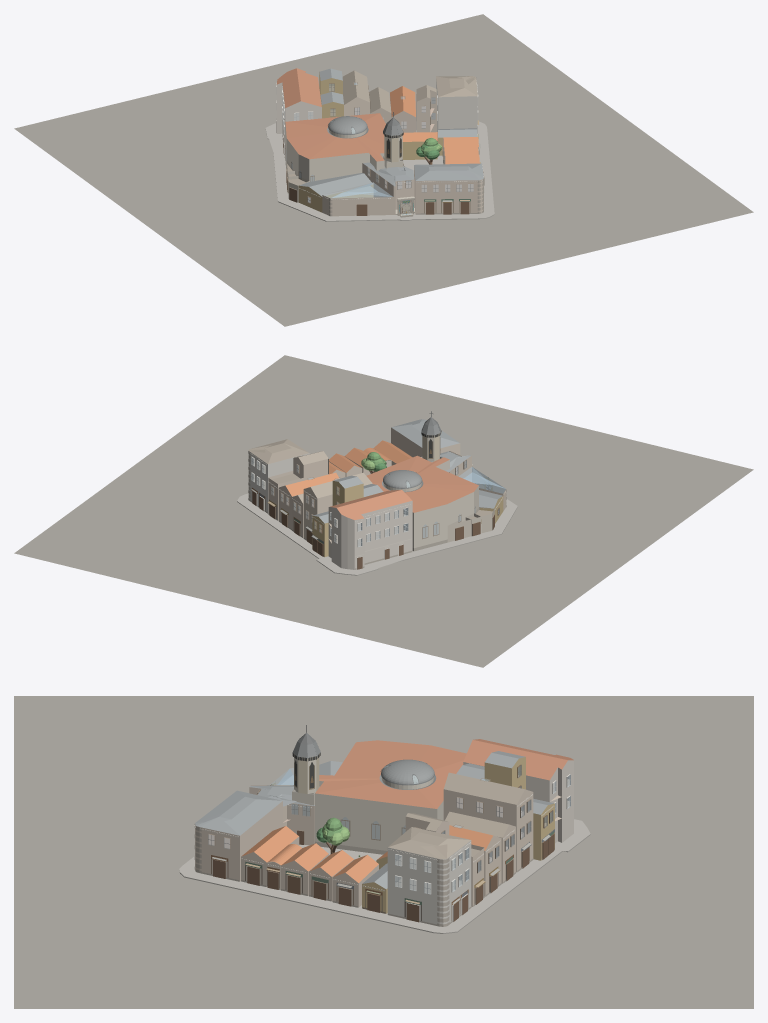
File: block147.glb
The picture shows the model from 3 angles, top to bottom: view 1: azimuth 30°, elevation 25°; view 2: azimuth 150°, elevation 25°; view 3: azimuth 270°, elevation 25°; orthographic projection. The views are drawn at different scales.
Visible parts, largest first — view 1: ground, CHURCH, S-41-43-45-E16.merged_mass, sidewalk, W-34-36-FIRIN.bakery_mass, N-52-54-E2.corner_mass, W-39-1.camli_vitre_passage, W-39-1.wooden_church_edge_annex, W-39-1.masonry_side_narthex, N-44, N-48, N-50.south_rear_three_storey_roofed (+4 smaller); view 2: ground, CHURCH, W-34-36-FIRIN.bakery_mass, sidewalk, N-52-54-E2.corner_mass, S-41-43-45-E16.merged_mass, N-44, N-48, N-50.south_rear_three_storey_roofed, N-40-42.middle_four_storey, N-50.north_front_two_storey_flat, N-40-42.north_two_storey (+3 smaller); view 3: ground, CHURCH, N-52-54-E2.corner_mass, S-41-43-45-E16.merged_mass, sidewalk, N-44, W-34-36-FIRIN.bakery_mass, E-14, W-39-1.masonry_side_narthex, N-46, E-6, E-10 (+9 smaller).
Boxes of the visible parts, box(x1,y1,x2,y2) form: ground: box(14, 14, 753, 326); CHURCH: box(285, 112, 403, 181); S-41-43-45-E16.merged_mass: box(414, 163, 484, 214); sidewalk: box(265, 121, 494, 221); W-34-36-FIRIN.bakery_mass: box(276, 68, 321, 158); N-52-54-E2.corner_mass: box(436, 76, 479, 138); W-39-1.camli_vitre_passage: box(322, 182, 393, 216); W-39-1.wooden_church_edge_annex: box(298, 173, 373, 212); W-39-1.masonry_side_narthex: box(362, 162, 414, 214); N-44: box(342, 70, 370, 116); N-48: box(390, 86, 415, 132); N-50.south_rear_three_storey_roofed: box(416, 85, 436, 132); ground: box(14, 355, 753, 667); CHURCH: box(366, 411, 478, 551); W-34-36-FIRIN.bakery_mass: box(328, 489, 412, 569); sidewalk: box(237, 493, 517, 575); N-52-54-E2.corner_mass: box(248, 439, 309, 513); S-41-43-45-E16.merged_mass: box(391, 419, 460, 457); N-44: box(303, 472, 372, 544); N-48: box(278, 472, 339, 530); N-50.south_rear_three_storey_roofed: box(293, 451, 328, 480); N-40-42.middle_four_storey: box(332, 475, 363, 505); N-50.north_front_two_storey_flat: box(267, 470, 303, 520); N-40-42.north_two_storey: box(311, 511, 328, 557); ground: box(14, 696, 753, 1008); CHURCH: box(292, 725, 466, 854); N-52-54-E2.corner_mass: box(387, 827, 471, 926); S-41-43-45-E16.merged_mass: box(194, 790, 282, 881); sidewalk: box(179, 819, 590, 933); N-44: box(443, 772, 533, 872); W-34-36-FIRIN.bakery_mass: box(463, 739, 573, 843); E-14: box(241, 826, 299, 886); W-39-1.masonry_side_narthex: box(249, 785, 314, 845); N-46: box(445, 811, 515, 883); E-6: box(332, 855, 378, 907); E-10: box(280, 843, 328, 895).
Size of the model in its own units: 100 by 17.09 by 100.
